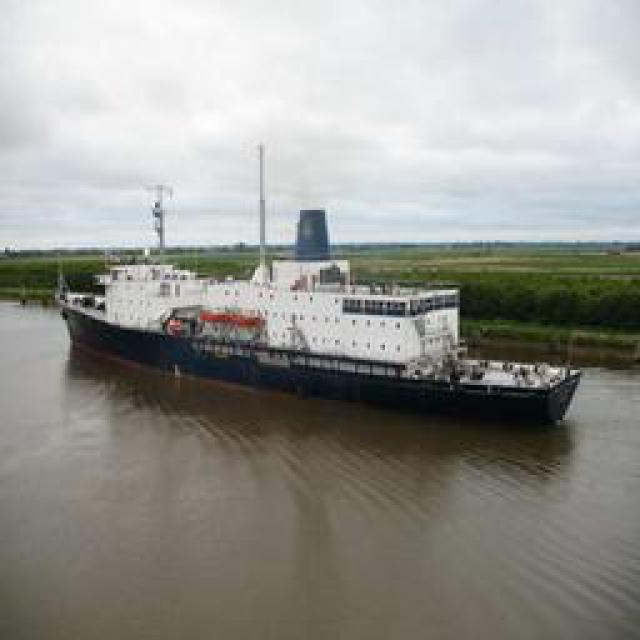Ship: (53, 232, 588, 425)
